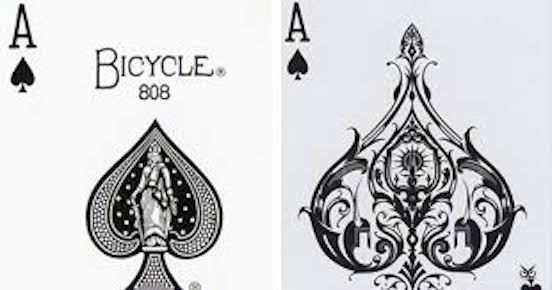AceOfSpades: (1, 1, 281, 290), (280, 1, 549, 290)
